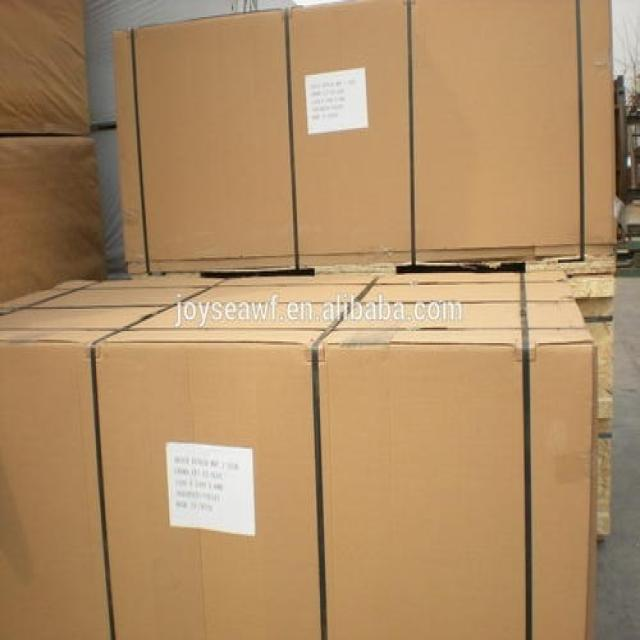box: (0, 268, 595, 640), (111, 0, 613, 280), (0, 133, 113, 304)
